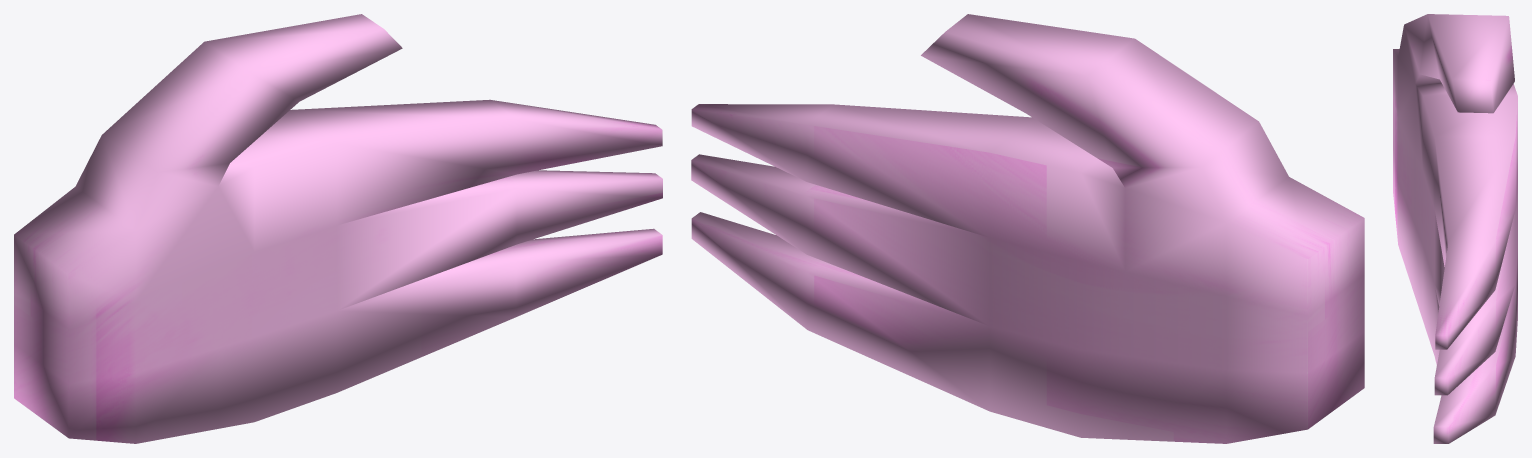
File: MouseMitts.obj
The picture shows the model from 3 angles, left to right: view 1: azimuth 30°, elevation 25°; view 2: azimuth 150°, elevation 25°; view 3: azimuth 270°, elevation 25°; orthographic projection. The views are drawn at different scales.
Visible parts, largest first — view 1: Left_Hand_Hand; view 2: Left_Hand_Hand; view 3: Left_Hand_Hand.
Boxes of the visible parts, box(x1,y1,x2,y2) form: Left_Hand_Hand: box(14, 14, 662, 443); Left_Hand_Hand: box(691, 14, 1364, 443); Left_Hand_Hand: box(1393, 14, 1517, 443).
Bounding box in the file's own units: 0.5731 × 0.308 × 0.1137.
1 material, 1 textured.
